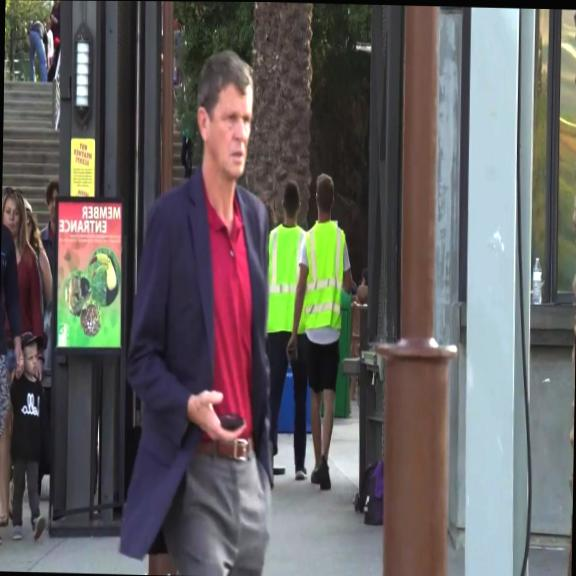safety_vest: (303, 219, 346, 330), (265, 219, 305, 334)
